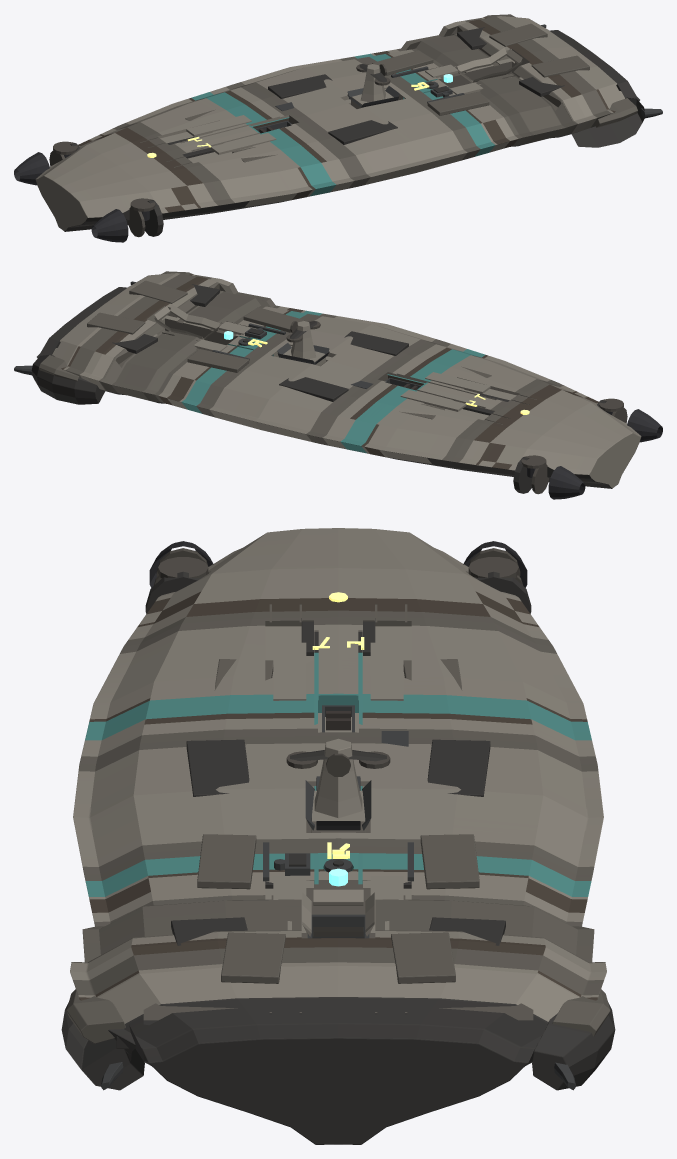
File: ranger_c6_lod2.glb
The picture shows the model from 3 angles, top to bottom: view 1: azimuth 30°, elevation 25°; view 2: azimuth 150°, elevation 25°; view 3: azimuth 270°, elevation 25°; orthographic projection. The views are drawn at different scales.
Visible parts, largest first — view 1: LOD0_Hull, LOD0_Collar_Port, LOD0_GunAft_Port, LOD0_Bell_Port, LOD0_Dish_Fore, LOD0_Bell_Stbd, LOD0_GunForeBrow_Port; view 2: LOD0_Hull, LOD0_Collar_Port, LOD0_GunAft_Port, LOD0_Bell_Stbd, LOD0_Dish_Fore, LOD0_Bell_Port, LOD0_GunForeBrow_Stbd; view 3: LOD0_Hull, LOD0_Collar_Port, LOD0_GunAft_Port, LOD0_GunForeBrow_Port, LOD0_Dish_Fore, LOD0_GunForeBrow_Stbd, LOD0_Bell_Nozzle_Port, LOD0_Bell_Nozzle_Stbd.
Part boxes in pixels (box(x1,y1,x2,y2)): LOD0_Hull: box(35, 16, 639, 231); LOD0_Collar_Port: box(70, 64, 644, 236); LOD0_GunAft_Port: box(255, 24, 662, 133); LOD0_Bell_Port: box(91, 209, 128, 242); LOD0_Dish_Fore: box(49, 63, 390, 237); LOD0_Bell_Stbd: box(14, 152, 49, 185); LOD0_GunForeBrow_Port: box(594, 98, 637, 127); LOD0_Hull: box(37, 273, 641, 488); LOD0_Collar_Port: box(31, 321, 606, 493); LOD0_GunAft_Port: box(14, 281, 421, 390); LOD0_Bell_Stbd: box(548, 466, 585, 499); LOD0_Dish_Fore: box(286, 320, 627, 494); LOD0_Bell_Port: box(627, 409, 662, 442); LOD0_GunForeBrow_Stbd: box(39, 355, 79, 381); LOD0_Hull: box(70, 528, 606, 1144); LOD0_Collar_Port: box(61, 571, 615, 1090); LOD0_GunAft_Port: box(101, 705, 575, 1090); LOD0_GunForeBrow_Port: box(66, 989, 125, 1043); LOD0_Dish_Fore: box(153, 548, 523, 776); LOD0_GunForeBrow_Stbd: box(552, 989, 610, 1036); LOD0_Bell_Nozzle_Port: box(158, 557, 208, 578); LOD0_Bell_Nozzle_Stbd: box(468, 557, 518, 578).
Size of what is drawn, in the model's own units: 16.08 by 2.9 by 7.04.
